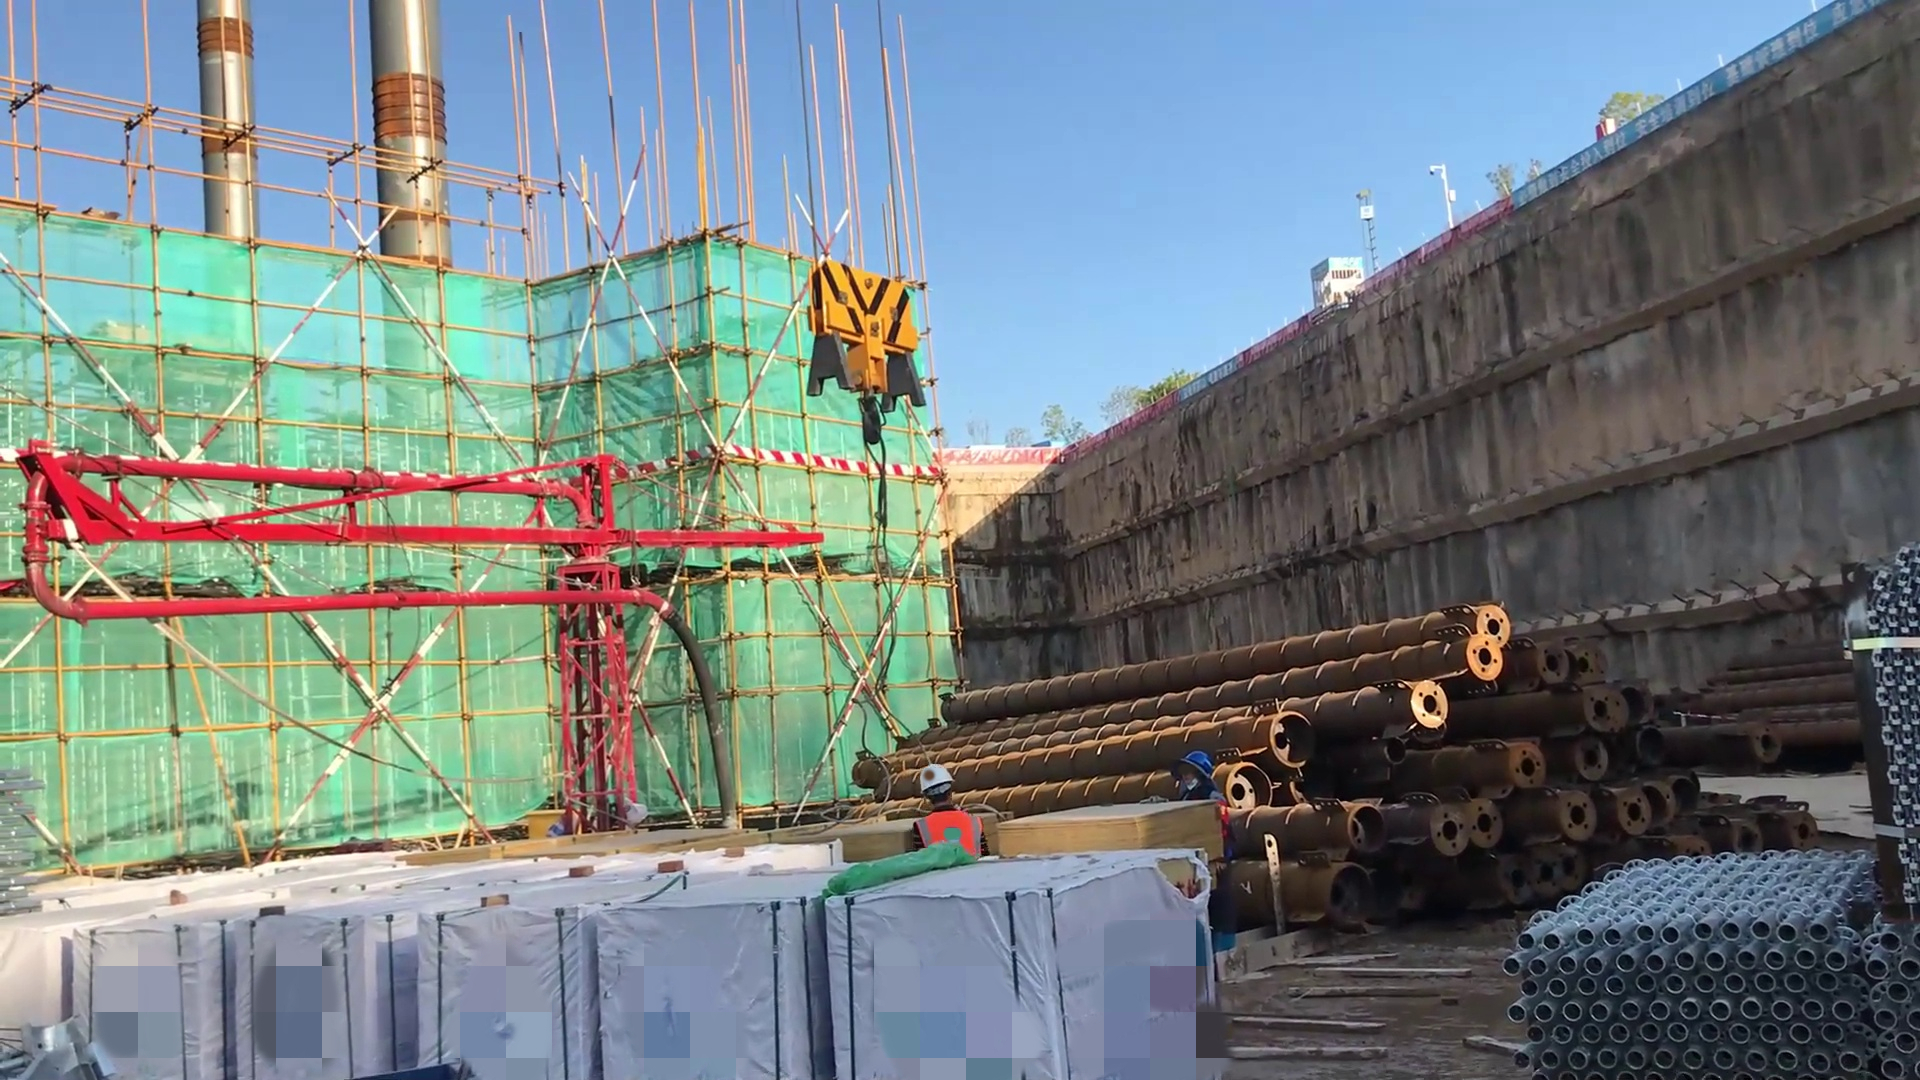board: (1001, 806, 1222, 887)
ebox: (519, 801, 590, 862)
helmet: (911, 756, 972, 815), (1168, 748, 1220, 799)
hook: (794, 267, 961, 462)
person: (1149, 748, 1247, 980), (907, 760, 991, 879)
scaffold: (1484, 849, 1920, 1078), (1858, 526, 1920, 912)
slogan: (1508, 1, 1879, 221), (1173, 346, 1255, 420)
vest: (906, 809, 989, 872)
